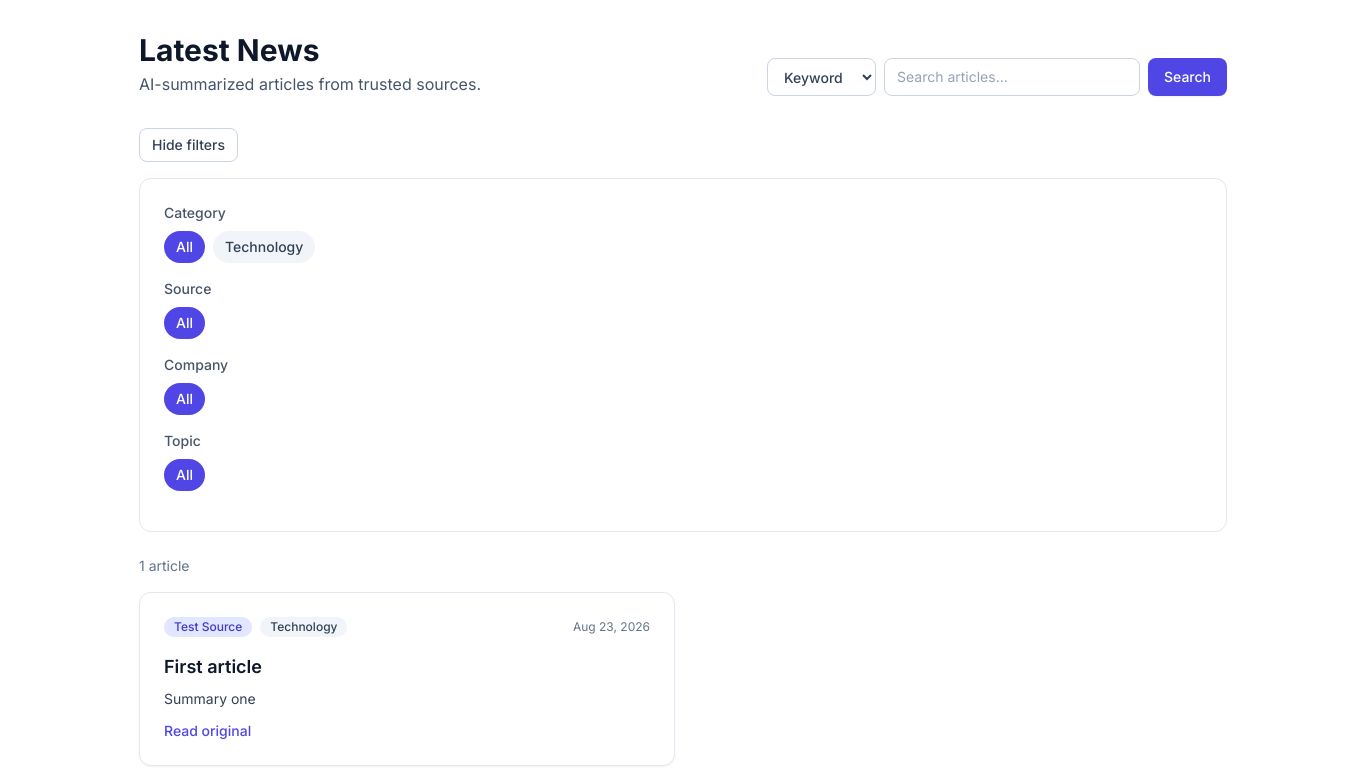
Scenario: NewsPage filter UX › shows active filter indicator when filters are active
Click the button "Technology". click: (264,247)
box: [213,231,315,263]
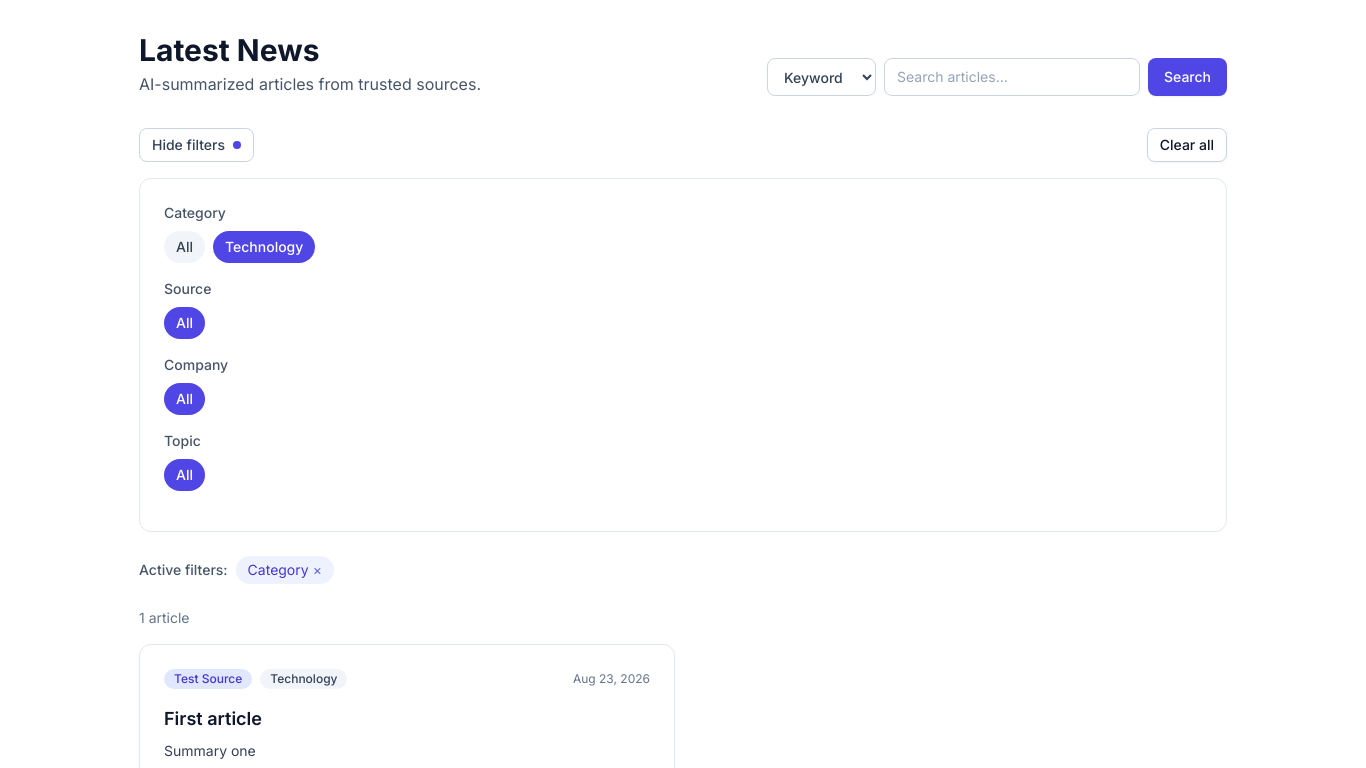
Now the text "Active filters:" is shown, box [139,560,228,580]
